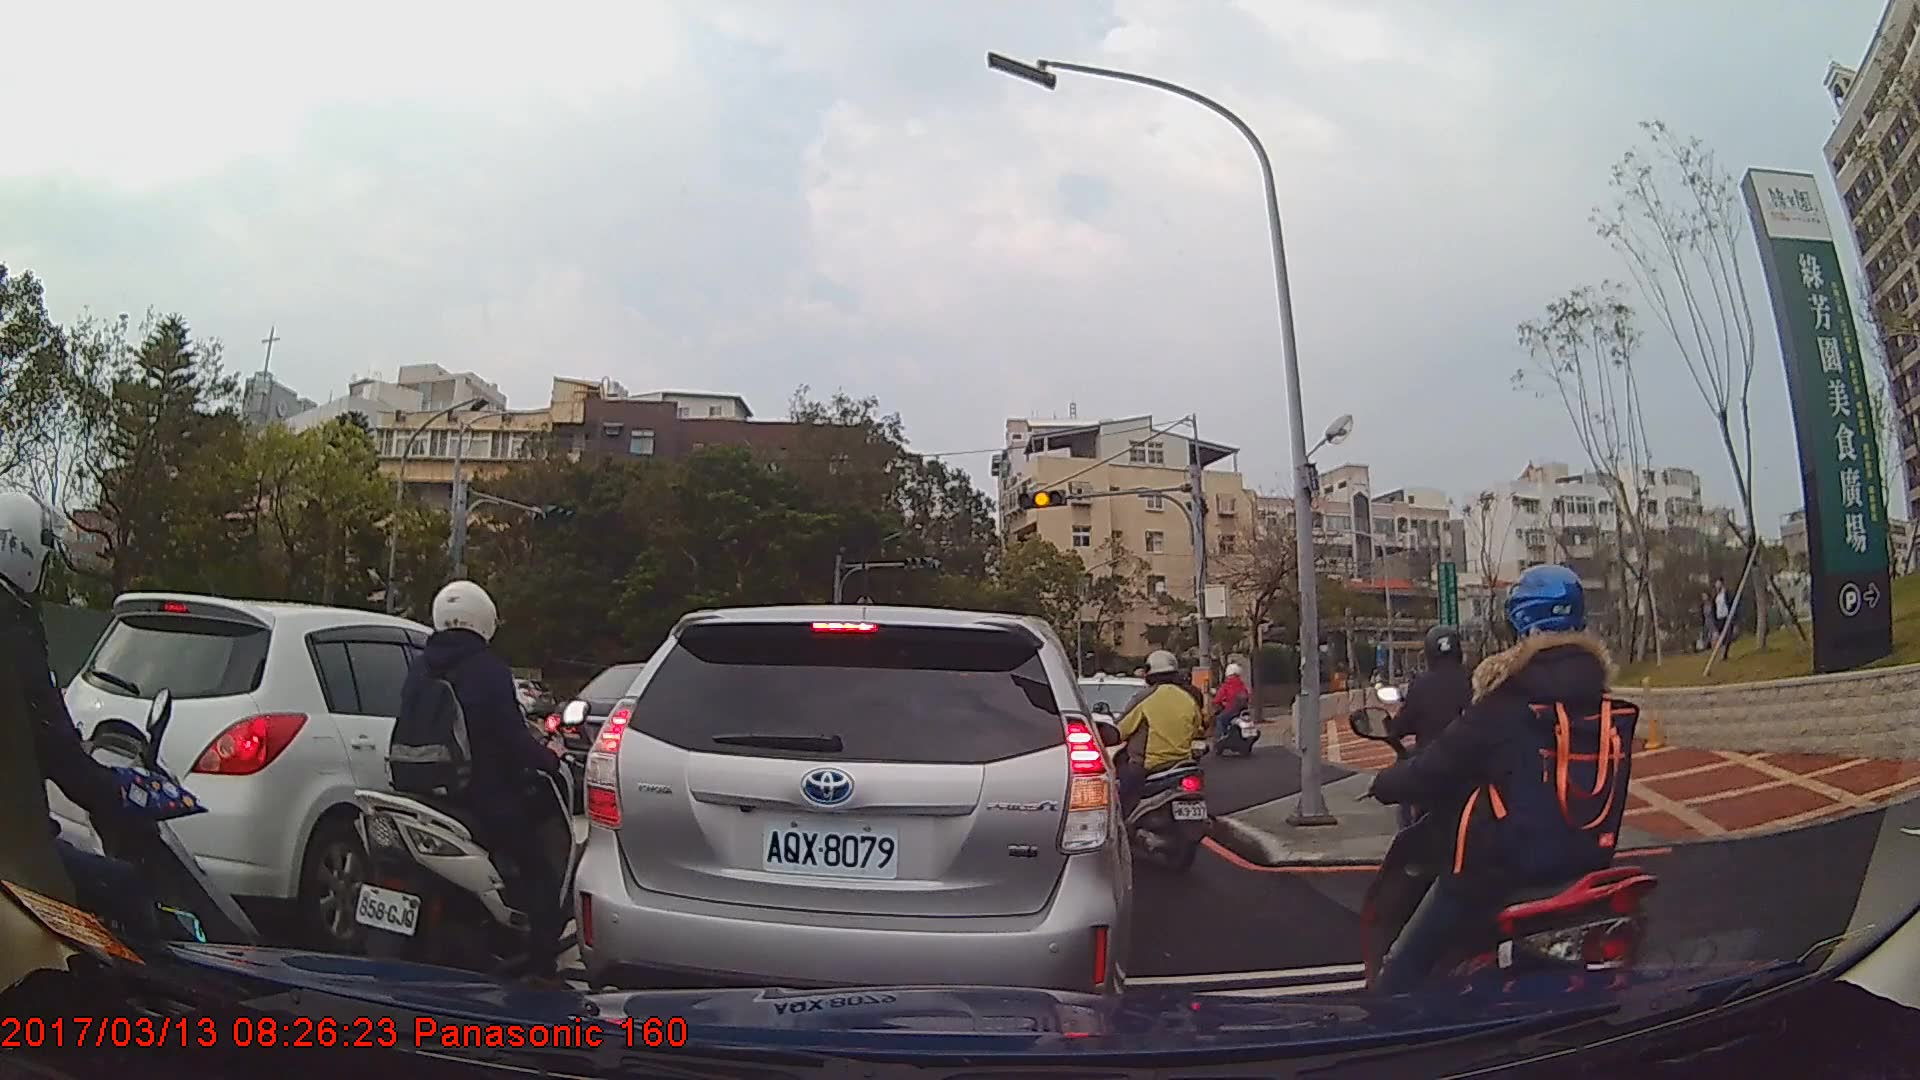pedestrian: (1705, 575, 1745, 657), (1692, 582, 1726, 659)
rider: (1, 480, 262, 1080), (1357, 563, 1658, 1042), (354, 580, 581, 1004), (1377, 624, 1530, 921), (1102, 648, 1211, 873), (1206, 661, 1262, 760)
vehicle: (574, 604, 1134, 1028), (49, 592, 570, 961), (485, 677, 557, 722)
